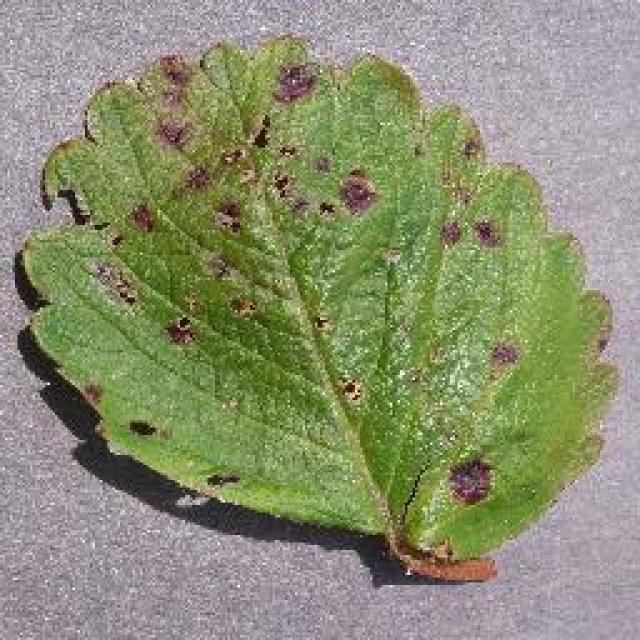Strawberry leaf scorch: (152, 70, 535, 545)
